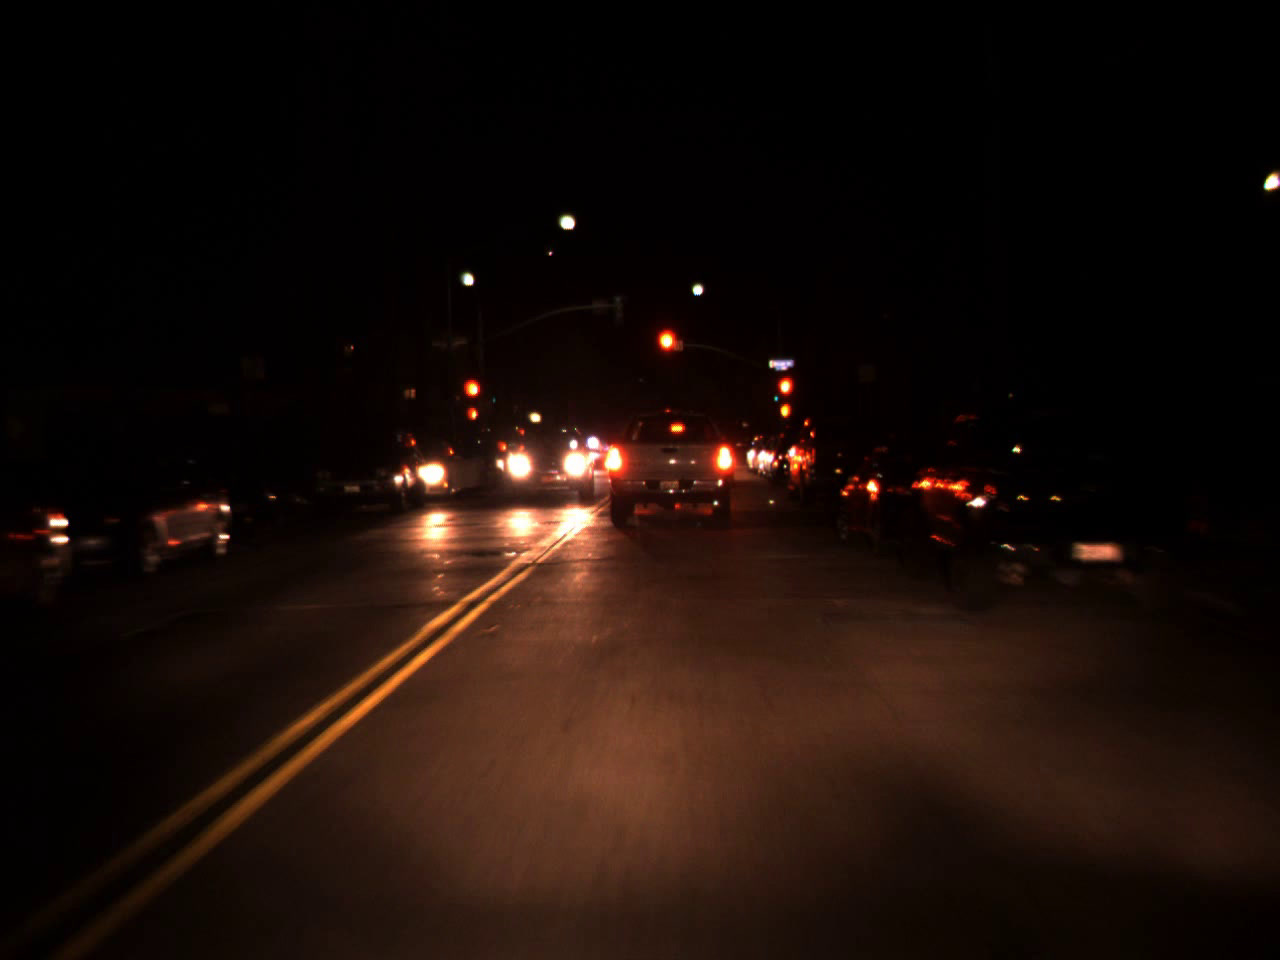stop: (654, 325, 679, 379), (462, 376, 483, 419), (775, 374, 794, 417)
